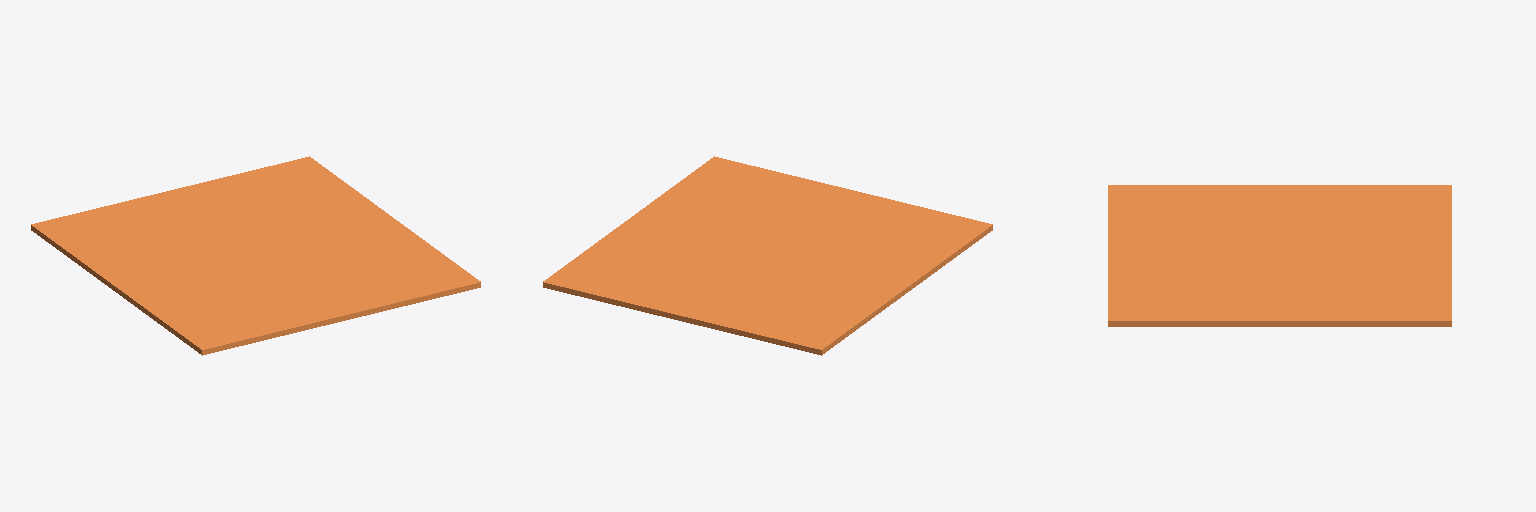
The model's file is back_plate.obj.
3 views of the same model, side by side, from view 1: azimuth 30°, elevation 25°; view 2: azimuth 150°, elevation 25°; view 3: azimuth 270°, elevation 25° (orthographic).
Visible parts, largest first — view 1: 1; view 2: 1; view 3: 1.
Part boxes in pixels (bbox=[...]): 1: bbox=[31, 156, 480, 355]; 1: bbox=[543, 156, 992, 355]; 1: bbox=[1108, 185, 1451, 326].
Size of the model in its own units: 274 by 5 by 292.